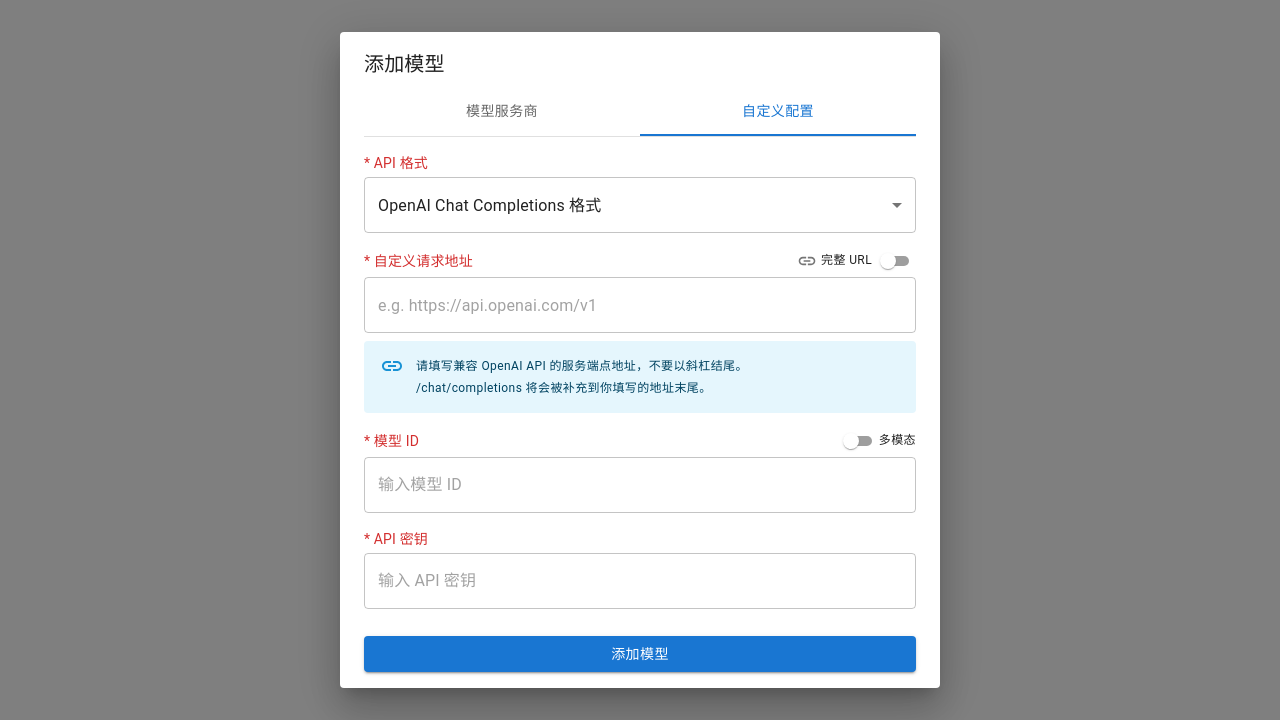
AddModelDialog 组件测试 › 表单验证 › 空模型 ID 时显示错误
This screenshot has width=1280, height=720.
What coordinates should you click on to do the following:
click the button "添加模型"
I would click on:
 (640, 654)
Its box is [364, 636, 916, 672].
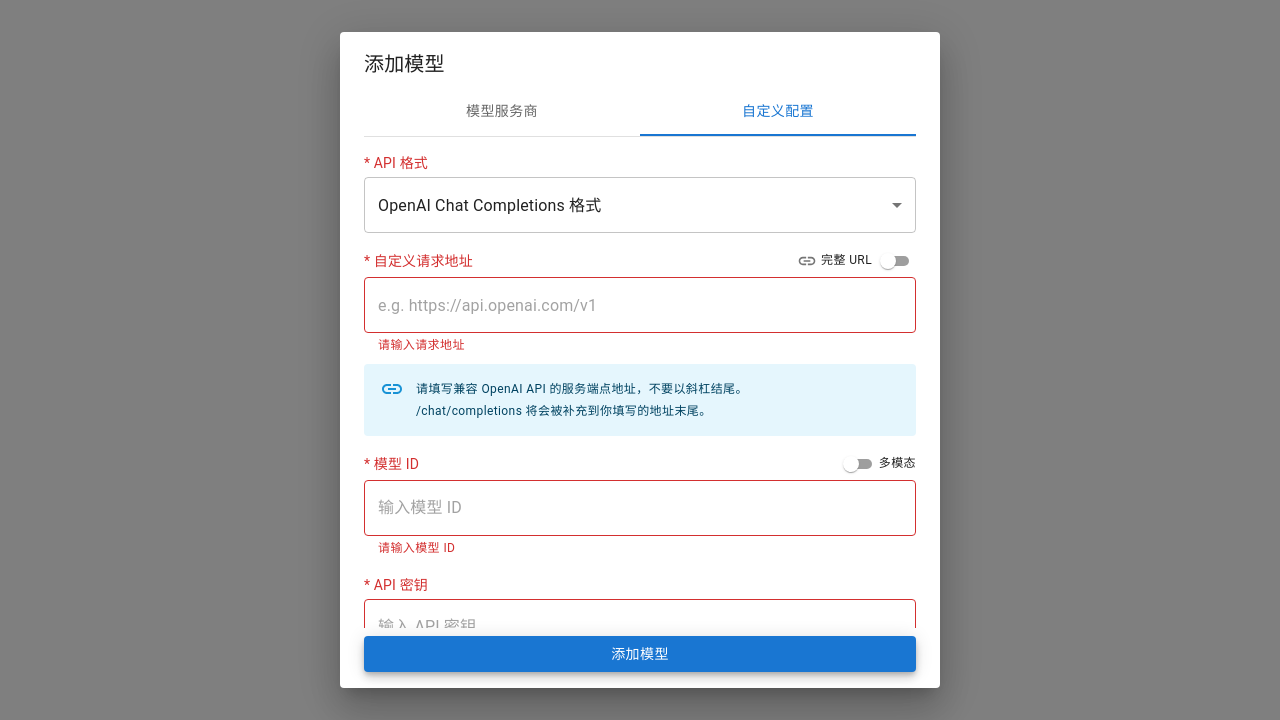
Expected: the text "请输入模型 ID" is shown, [378, 541, 455, 555]
